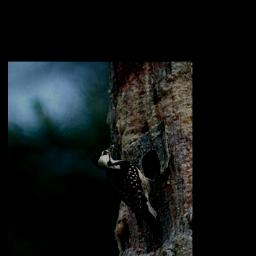Woodpecker: (91, 142, 161, 243)
